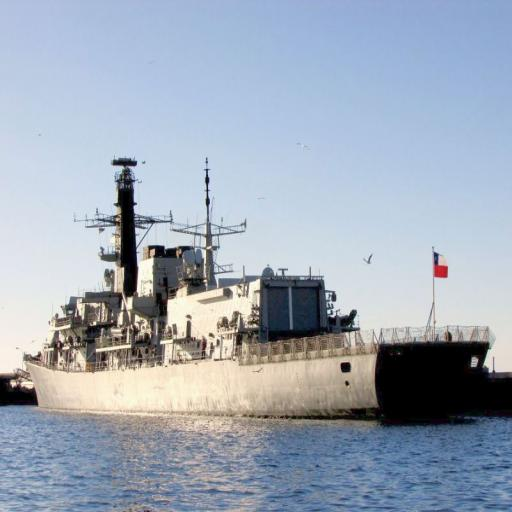Fragata: (18, 158, 494, 430)
